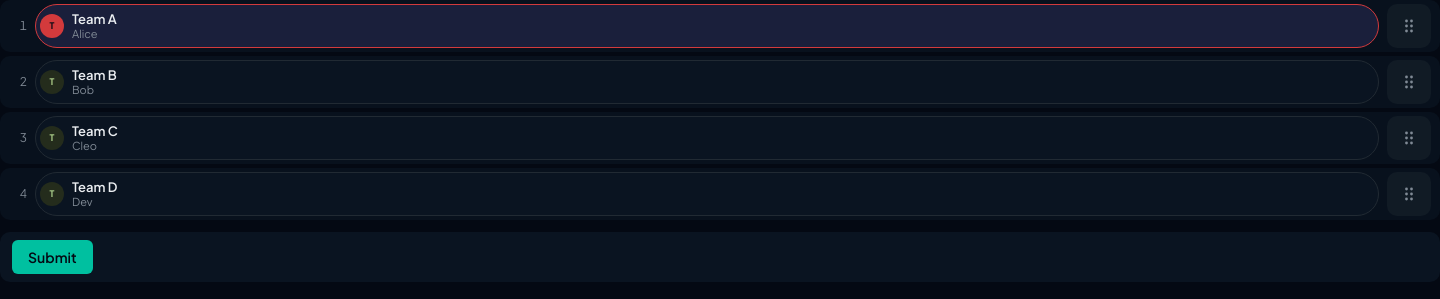
it: RankBoard tap route › disables the nudge that would run off the end of the board
The width and height of the screenshot is (1440, 299).
Click the button with aria-label "Team A, Alice, rank 1 of 4" at x=94, y=19, box [35,4,1379,48]
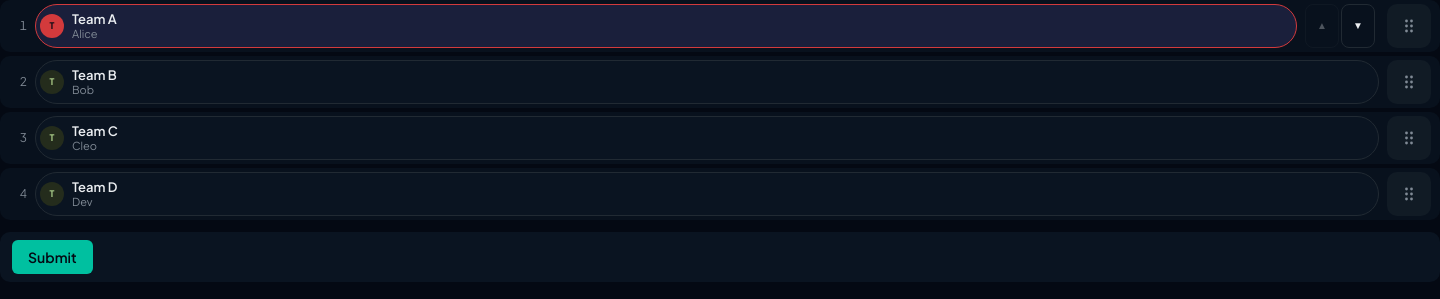
Expected: the button named "Move Team A up one rank" is disabled, [1305,4,1339,48]
Expected: the button named "Move Team A down one rank" is enabled, [1341,4,1375,48]
